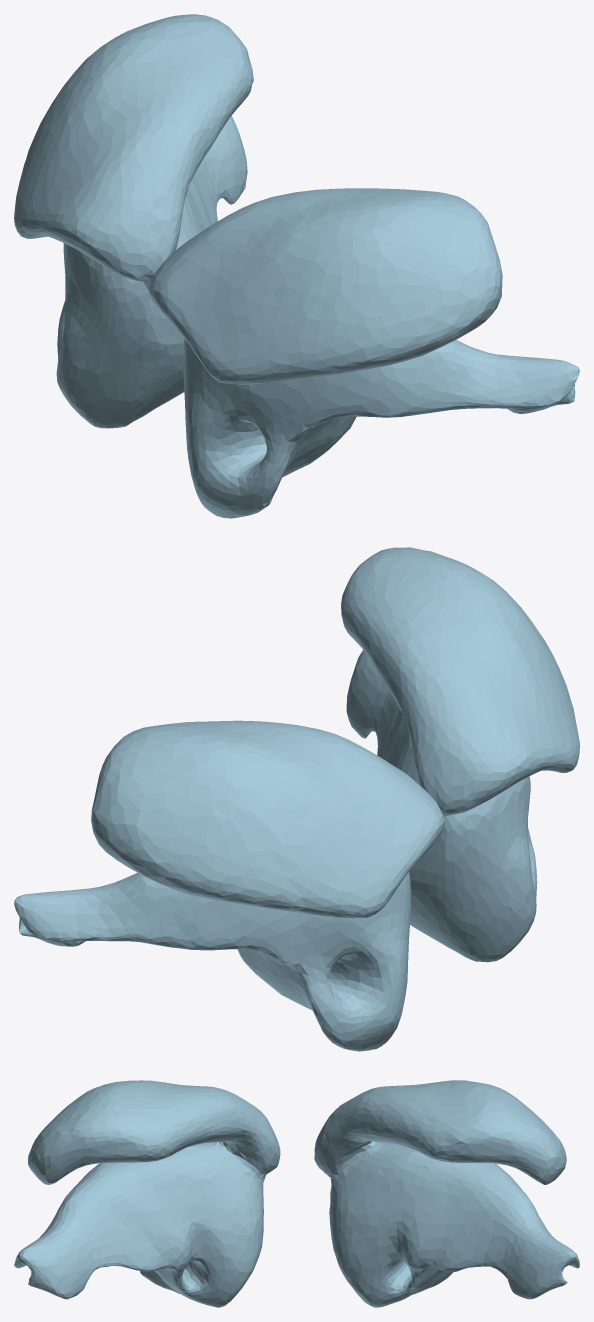
The picture shows the model from 3 angles, top to bottom: view 1: azimuth 30°, elevation 25°; view 2: azimuth 150°, elevation 25°; view 3: azimuth 270°, elevation 25°; orthographic projection. The views are drawn at different scales.
Parts seen in each view (by area): view 1: 493.obj; view 2: 493.obj; view 3: 493.obj.
Boxes of the visible parts, x1,y1,x2,y2 form: 493.obj: [14, 14, 579, 518]; 493.obj: [14, 547, 579, 1051]; 493.obj: [14, 1080, 579, 1307].
Bounding box in the file's own units: 2686 × 2828 × 5742.
